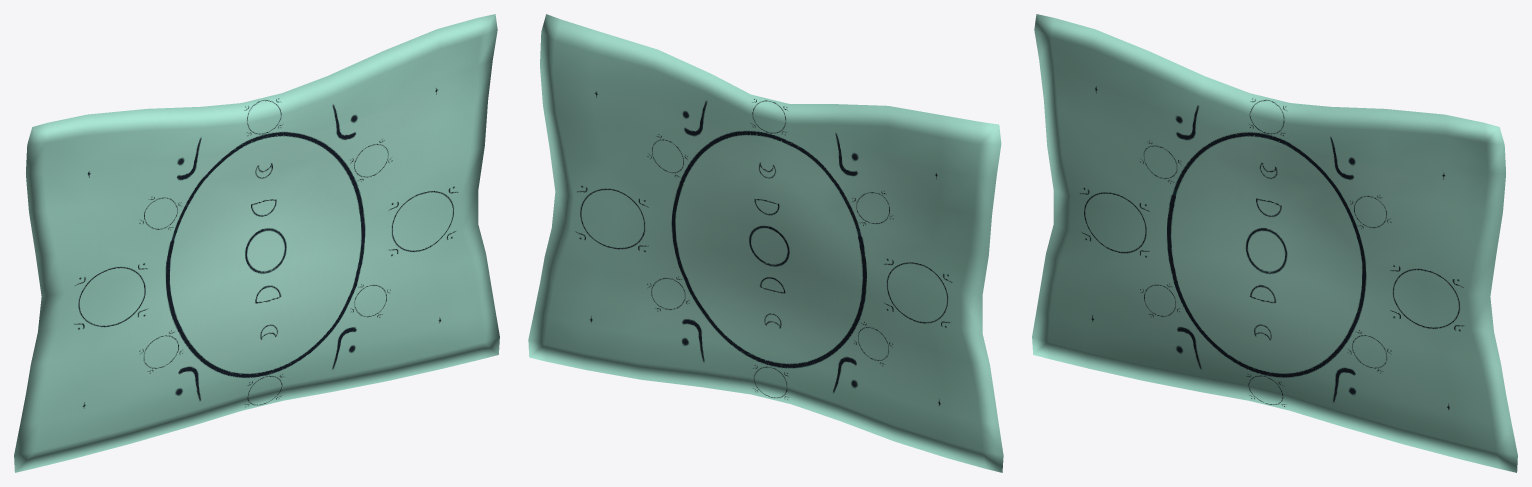
File: Stage3.fbx
3 views of the same model, side by side, from view 1: azimuth 30°, elevation 25°; view 2: azimuth 150°, elevation 25°; view 3: azimuth 330°, elevation 25° (orthographic). The views are drawn at different scales.
Visible parts, largest first — view 1: Project_3:Mesh; view 2: Project_3:Mesh; view 3: Project_3:Mesh.
Boxes of the visible parts, x1,y1,x2,y2 form: Project_3:Mesh: [14, 14, 499, 472]; Project_3:Mesh: [528, 14, 1003, 472]; Project_3:Mesh: [1032, 14, 1517, 472].
Bounding box in the file's own units: 1.53 × 1.05 × 0.0783.
Materials: 1 (1 with a texture image).
